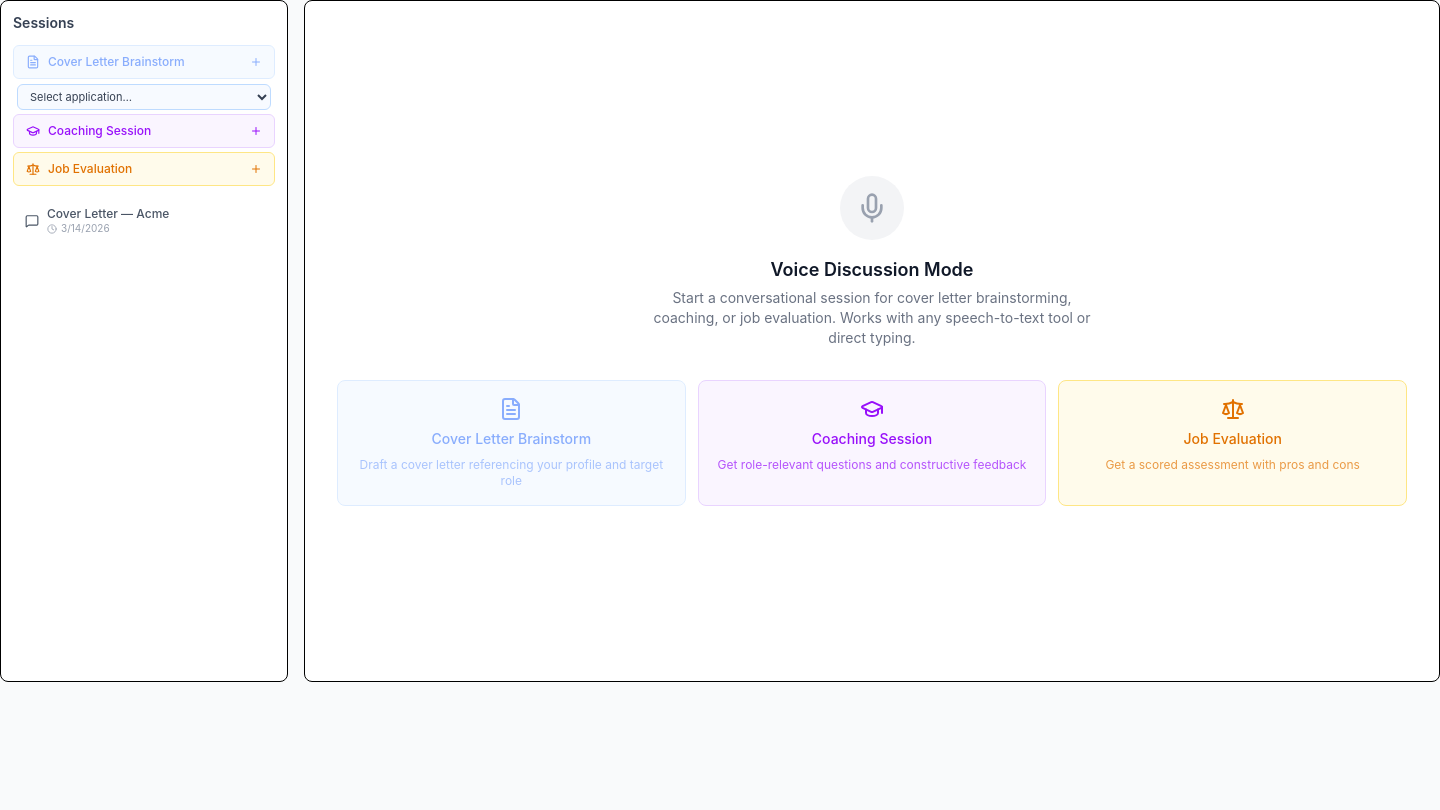
VoiceDiscussion › application picker for cover_letter mode › shows application context in active session header
Click the text "Cover Letter — Acme" at (108, 214), box [47, 206, 169, 221]
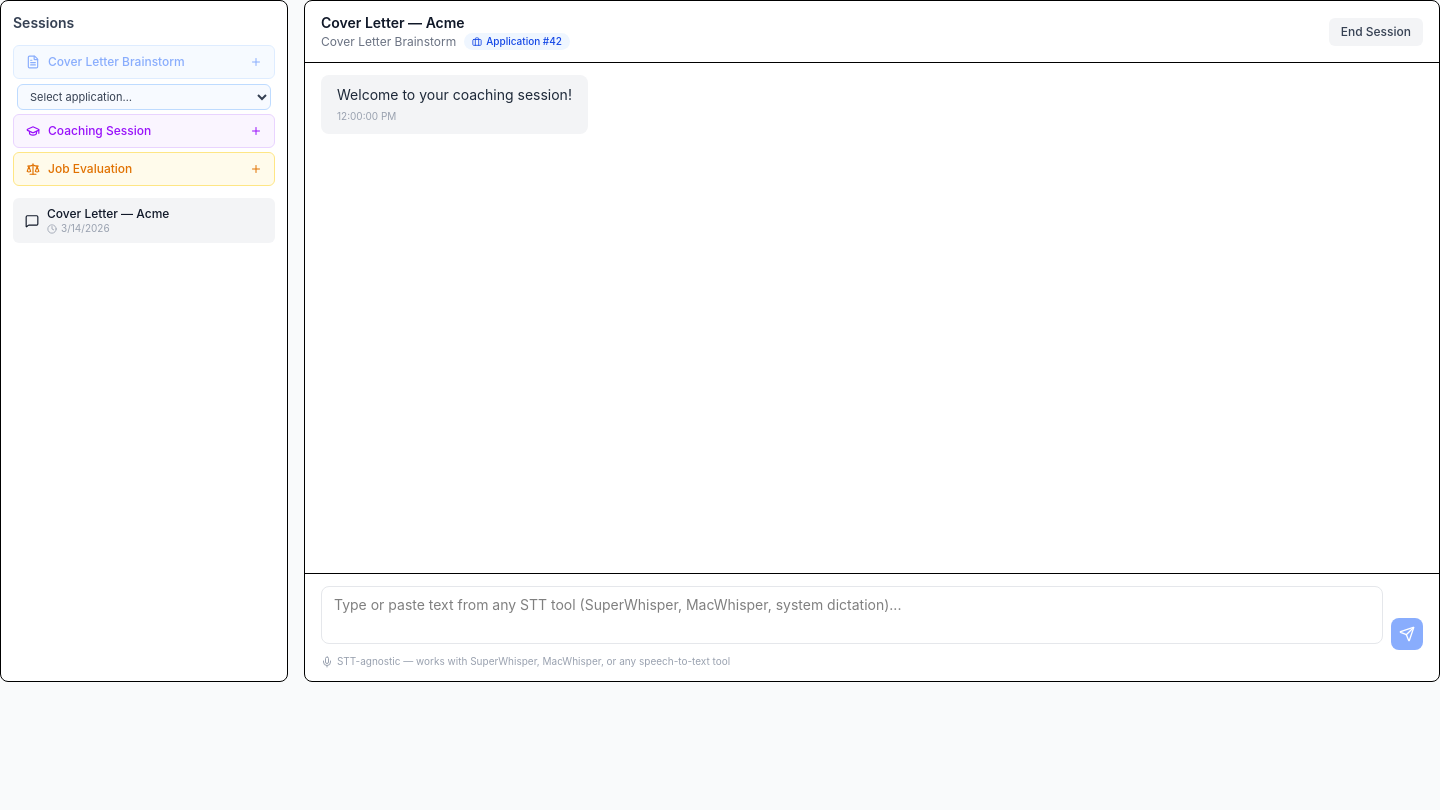
Expected: the text "Application #42" is shown, [464, 33, 570, 50]
